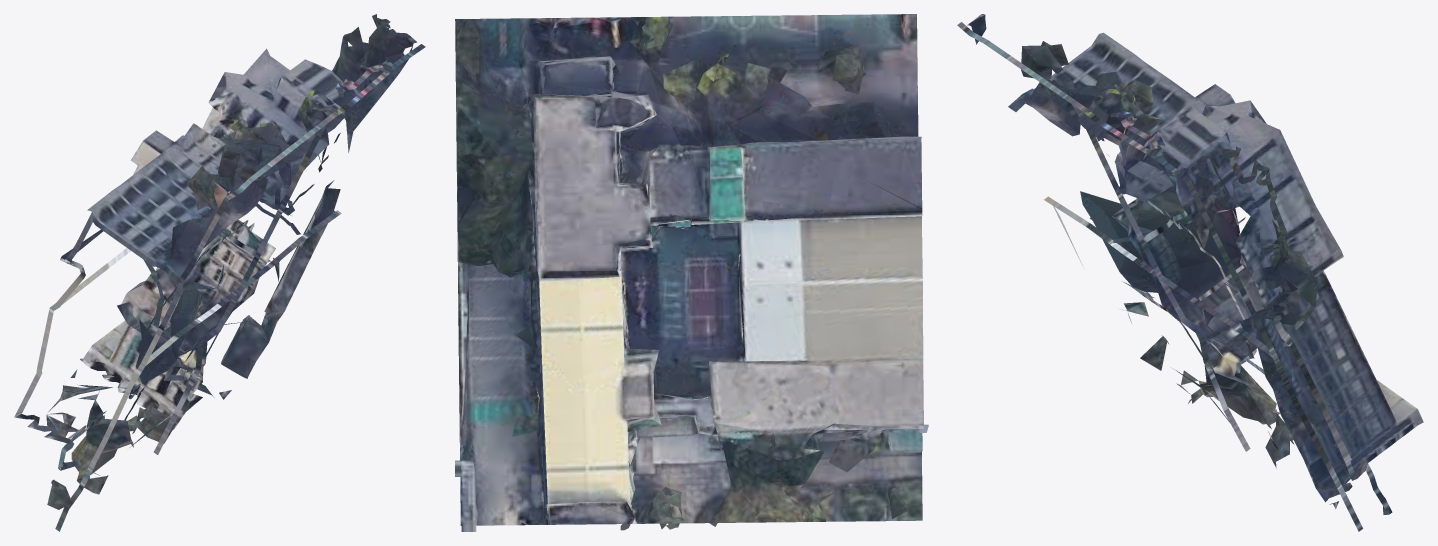
3 views of the same model, side by side, from view 1: azimuth 30°, elevation 25°; view 2: azimuth 150°, elevation 25°; view 3: azimuth 270°, elevation 25° (orthographic). The views are drawn at different scales.
Bounding box in the file's own units: 80.64 × 72.99 × 74.02.
Materials: 2 (2 with a texture image).
